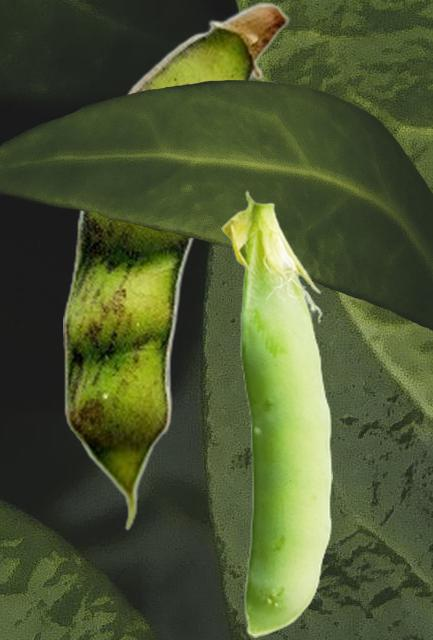pea: (63, 1, 289, 530), (221, 190, 331, 636)
